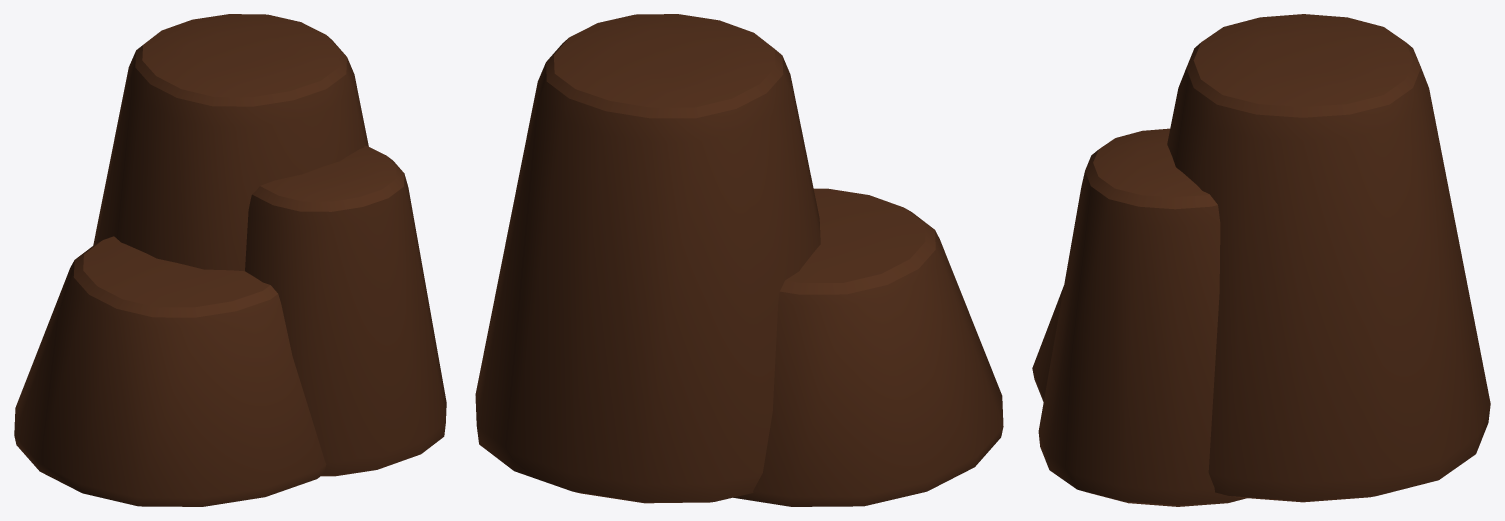
The model's file is RockPlatforms_1.fbx.
3 renders of one model, left to right at view 1: azimuth 30°, elevation 25°; view 2: azimuth 150°, elevation 25°; view 3: azimuth 270°, elevation 25°, orthographic. The views are drawn at different scales.
Visible parts, largest first — view 1: RockPlatforms_1; view 2: RockPlatforms_1; view 3: RockPlatforms_1.
Boxes of the visible parts, left/top/right/bottom form: RockPlatforms_1: left=14, top=14, right=446, bottom=506; RockPlatforms_1: left=475, top=14, right=1003, bottom=506; RockPlatforms_1: left=1032, top=14, right=1490, bottom=506.
Size of the model in its own units: 640 by 553 by 588.
